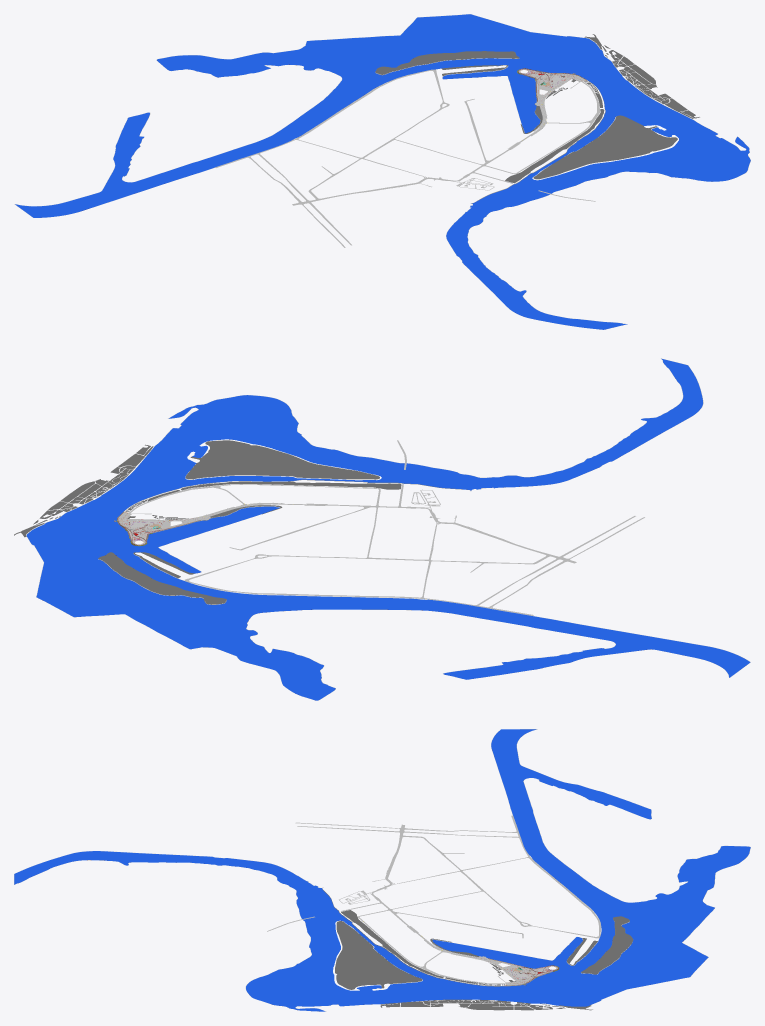
Rendered from MODEL_Environment.FBX.
3 views of the same model, one above another, from view 1: azimuth 30°, elevation 25°; view 2: azimuth 150°, elevation 25°; view 3: azimuth 270°, elevation 25° (orthographic). The views are drawn at different scales.
Visible parts, largest first — view 1: WaterPlane, DM_Island, SM_NS_NZ_RoadAdd, Water, SM_NS_NZ_Asphalt; view 2: WaterPlane, DM_Island, SM_NS_NZ_RoadAdd, Water, SM_NS_NZ_Asphalt; view 3: WaterPlane, DM_Island, SM_NS_NZ_RoadAdd, Water, SM_NS_NZ_Asphalt.
Boxes of the visible parts, left/top/right/bottom form: WaterPlane: left=15, top=14, right=750, bottom=329; DM_Island: left=375, top=34, right=699, bottom=183; SM_NS_NZ_RoadAdd: left=215, top=69, right=599, bottom=247; Water: left=14, top=14, right=750, bottom=329; SM_NS_NZ_Asphalt: left=368, top=104, right=599, bottom=194; WaterPlane: left=26, top=358, right=750, bottom=700; DM_Island: left=14, top=440, right=401, bottom=604; SM_NS_NZ_RoadAdd: left=129, top=440, right=644, bottom=615; Water: left=26, top=358, right=750, bottom=700; SM_NS_NZ_Asphalt: left=191, top=461, right=502, bottom=540; WaterPlane: left=14, top=729, right=750, bottom=1011; DM_Island: left=335, top=910, right=632, bottom=1010; SM_NS_NZ_RoadAdd: left=267, top=815, right=601, bottom=983; Water: left=14, top=729, right=750, bottom=1011; SM_NS_NZ_Asphalt: left=300, top=857, right=479, bottom=974.
Bounding box in the file's own units: 5303 × 13.96 × 5843.
